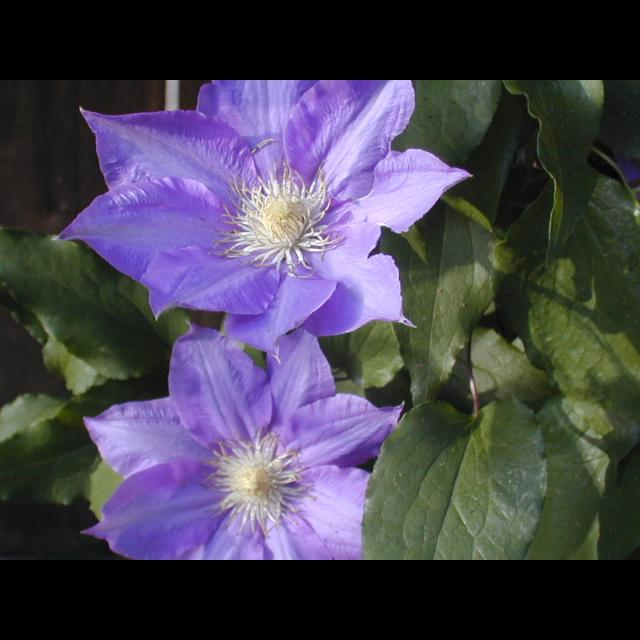Flower: (57, 80, 473, 362), (78, 327, 406, 559)
